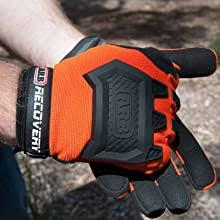gloves: (54, 34, 218, 218), (15, 42, 179, 177)
